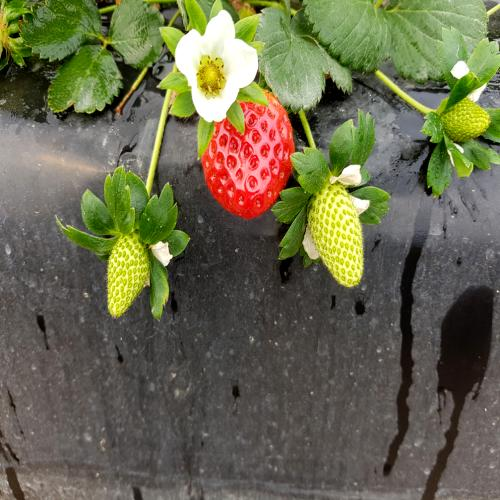ripe: (200, 71, 298, 221)
